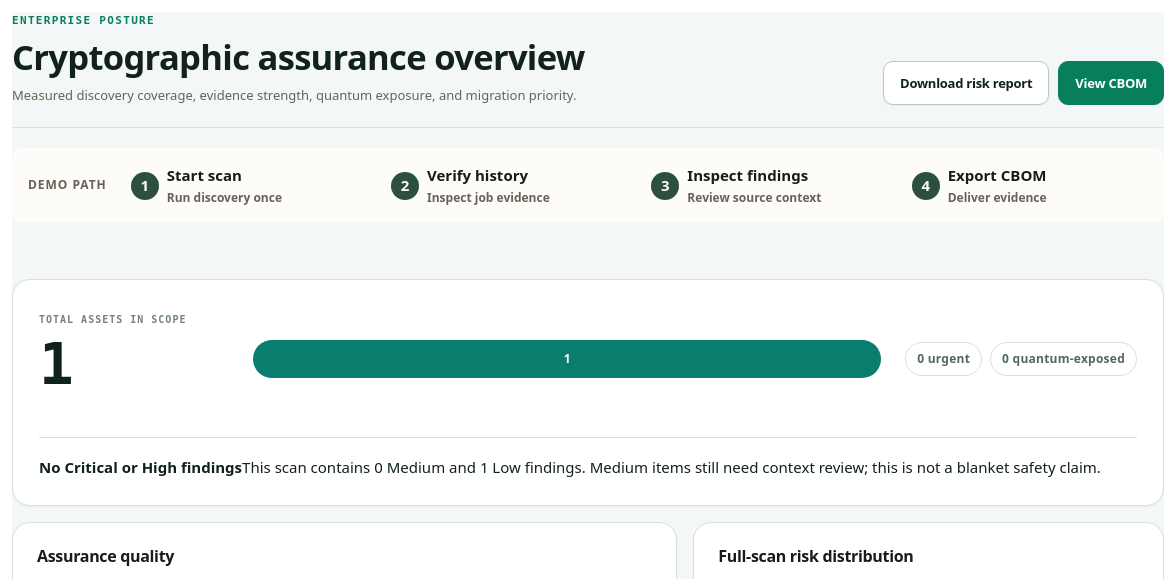
Dashboard › keeps the dashboard available after a failed download
Click the button "Download risk report". click: click(966, 83)
box: [883,61,1049,105]
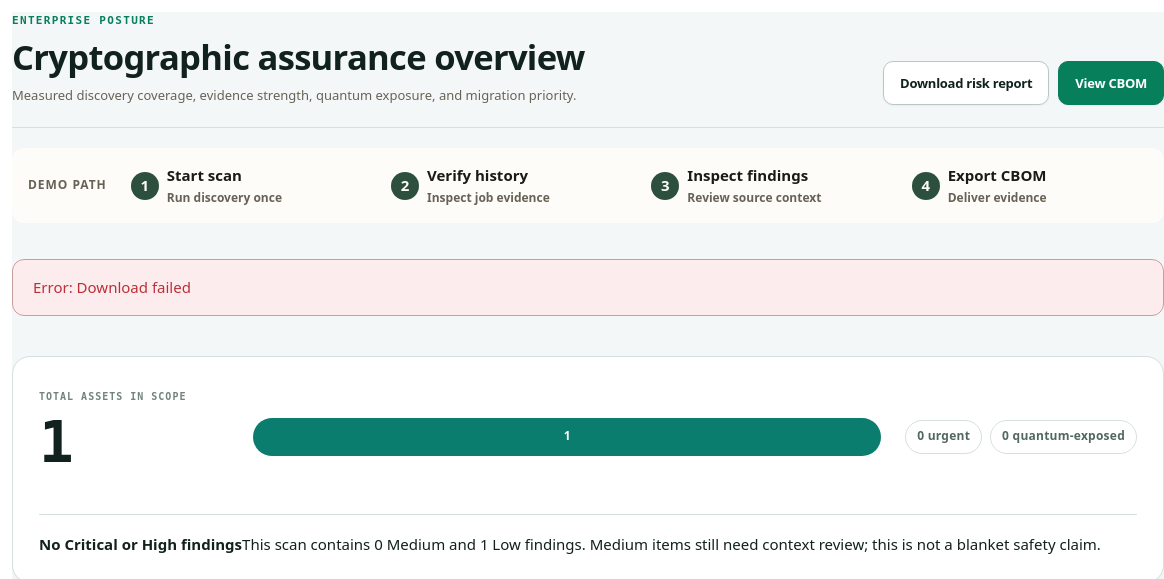
Expected: the heading "Cryptographic assurance overview" is shown, [12,39,585,74]
Result: the message "Error: Download failed" is shown at [12,259,1163,316]
